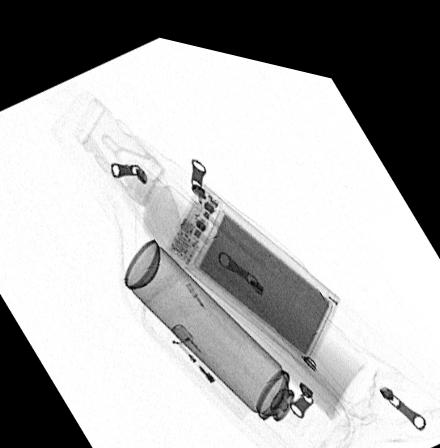Lighter: (166, 311, 254, 406)
Powerbank: (164, 170, 340, 353)
Sprayer: (123, 229, 332, 441)
